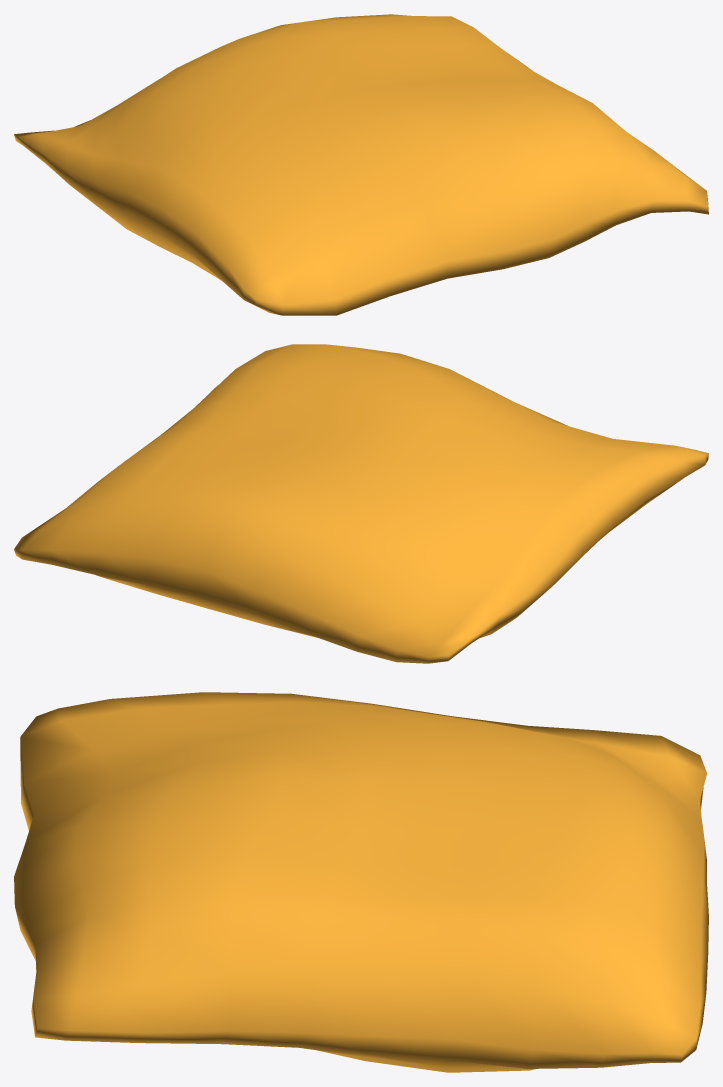
File: cuscino_giallo.fbx
3 views of the same model, one above another, from view 1: azimuth 30°, elevation 25°; view 2: azimuth 150°, elevation 25°; view 3: azimuth 270°, elevation 25° (orthographic). The views are drawn at different scales.
Parts seen in each view (by area): view 1: Cube; view 2: Cube; view 3: Cube.
Part boxes in pixels (x1,y1,x2,y2): Cube: (14, 14, 708, 315); Cube: (14, 344, 708, 663); Cube: (14, 692, 708, 1072).
Size of the model in its own units: 26.04 by 8.52 by 25.32.
